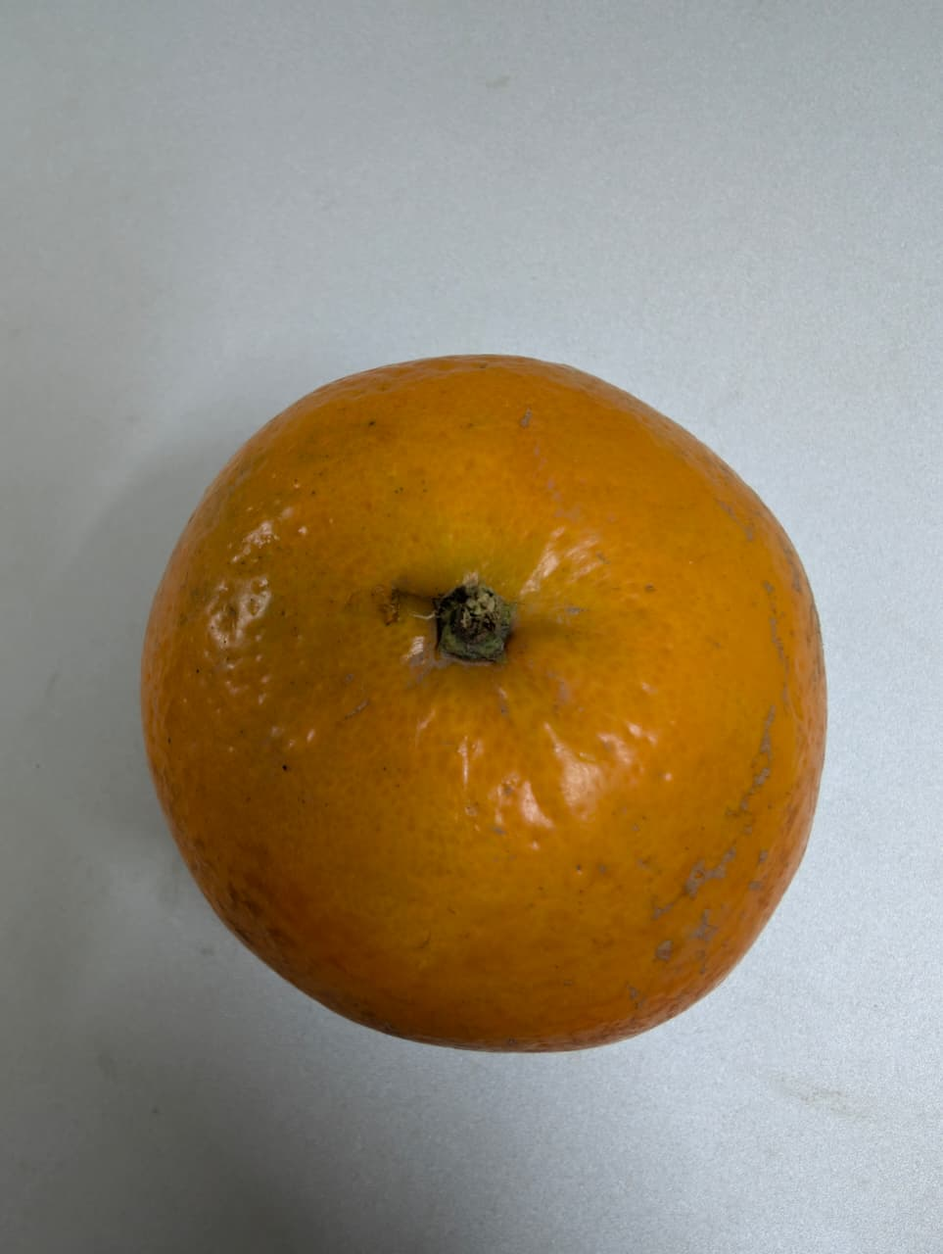orange: (86, 206, 898, 999)
